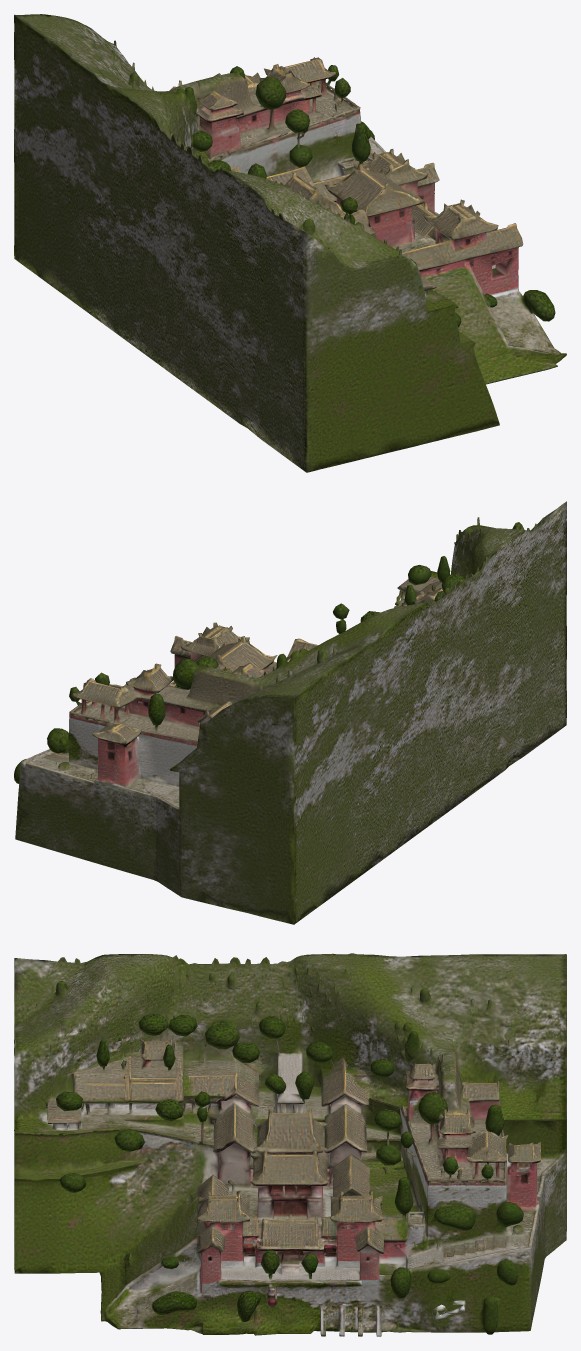
The model's file is building-qingliansi.glb.
The picture shows the model from 3 angles, top to bottom: view 1: azimuth 30°, elevation 25°; view 2: azimuth 150°, elevation 25°; view 3: azimuth 270°, elevation 25°; orthographic projection. The views are drawn at different scales.
Parts seen in each view (by area): view 1: node_a5735740-2344-4cb2-8008-05205e6874cb; view 2: node_a5735740-2344-4cb2-8008-05205e6874cb; view 3: node_a5735740-2344-4cb2-8008-05205e6874cb.
Part boxes in pixels (bbox=[...]): node_a5735740-2344-4cb2-8008-05205e6874cb: bbox=[14, 14, 566, 472]; node_a5735740-2344-4cb2-8008-05205e6874cb: bbox=[14, 501, 566, 924]; node_a5735740-2344-4cb2-8008-05205e6874cb: bbox=[14, 953, 566, 1336].
Bounding box in the file's own units: 0.6562 × 0.4642 × 1.
Materials: 1 (1 with a texture image).
